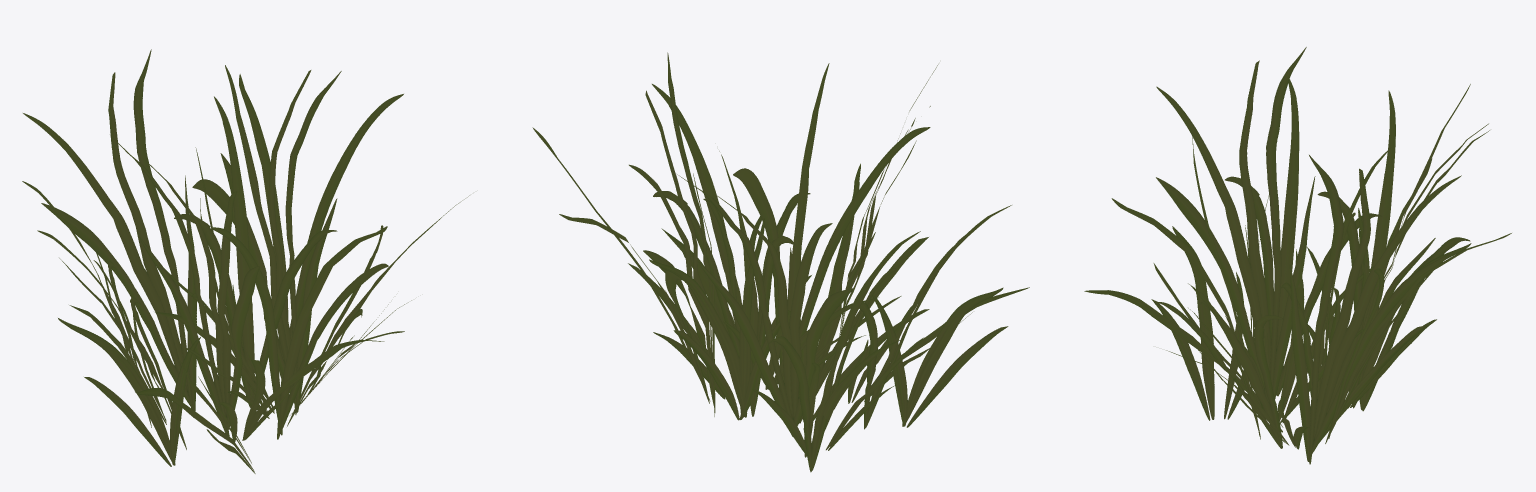
The model's file is MSH_fwOF_Grass_L_1.fbx.
The picture shows the model from 3 angles, left to right: view 1: azimuth 30°, elevation 25°; view 2: azimuth 150°, elevation 25°; view 3: azimuth 270°, elevation 25°; orthographic projection. The views are drawn at different scales.
Parts seen in each view (by area): view 1: MSH_fwOF_Grass_L_1; view 2: MSH_fwOF_Grass_L_1; view 3: MSH_fwOF_Grass_L_1.
Part boxes in pixels (x1,y1,x2,y2): MSH_fwOF_Grass_L_1: (22, 49, 469, 473); MSH_fwOF_Grass_L_1: (532, 52, 1029, 472); MSH_fwOF_Grass_L_1: (1084, 47, 1511, 464).
Bounding box in the file's own units: 0.6395 × 0.5252 × 0.5811.
